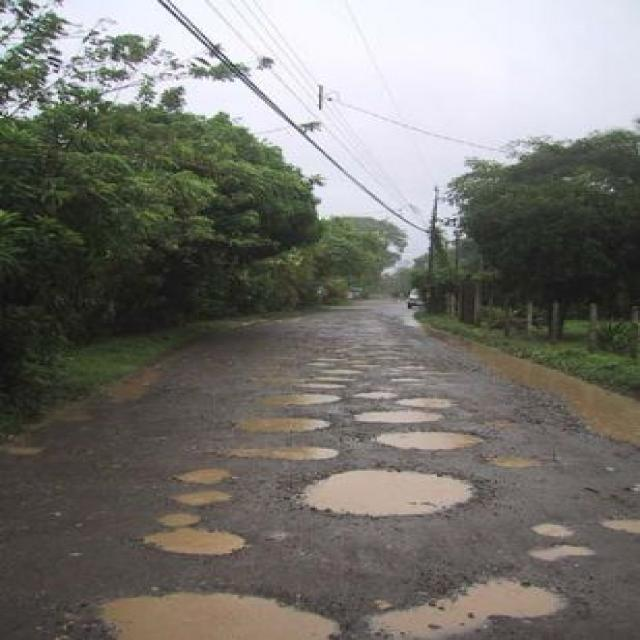pothole: (348, 564, 574, 638), (89, 586, 344, 638), (288, 462, 480, 518), (143, 506, 255, 561), (362, 424, 489, 451), (223, 440, 339, 460), (522, 540, 599, 566), (342, 404, 444, 422), (162, 480, 236, 503), (242, 388, 342, 404), (162, 466, 236, 484), (390, 390, 450, 408), (520, 519, 580, 536)
